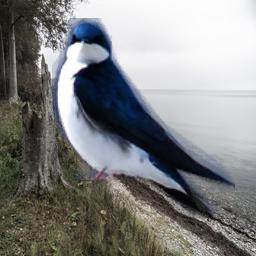Swallow: (52, 18, 235, 219)
